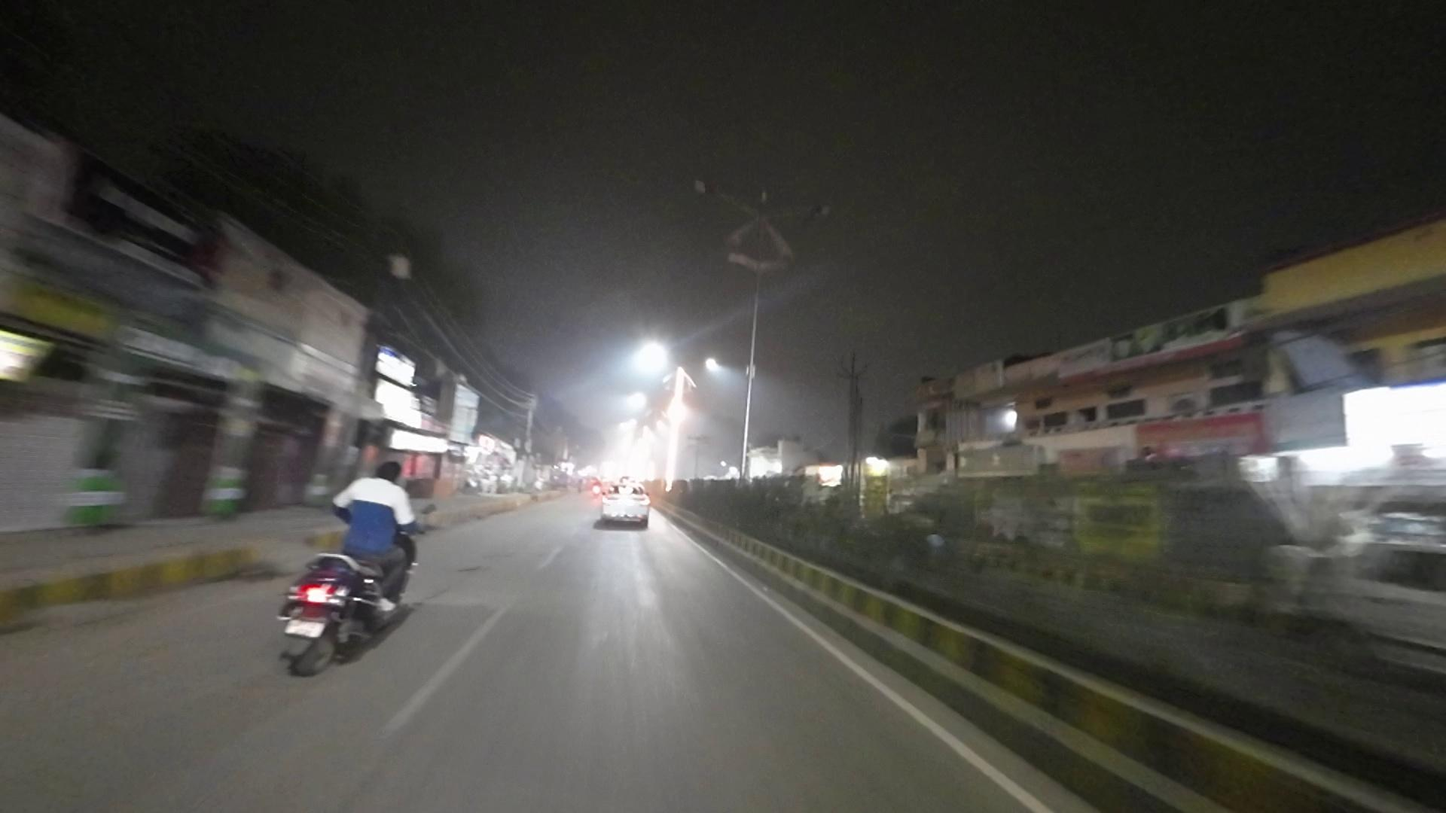streetlight: (688, 180, 756, 217), (775, 204, 834, 222)
